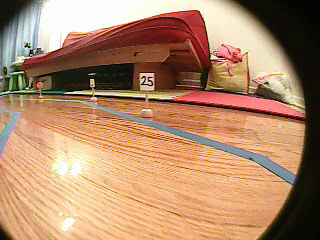Green Traffic Light: (89, 79, 96, 88)
Speed Limit 25: (139, 73, 155, 90)
Stop Sign: (37, 82, 44, 89)
